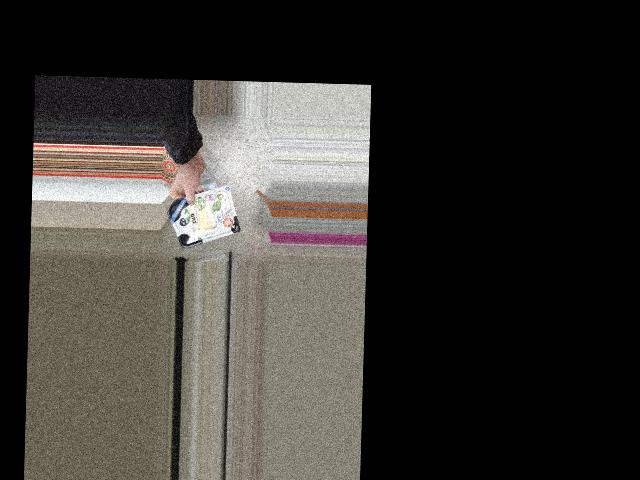cheese: (171, 194, 236, 243)
